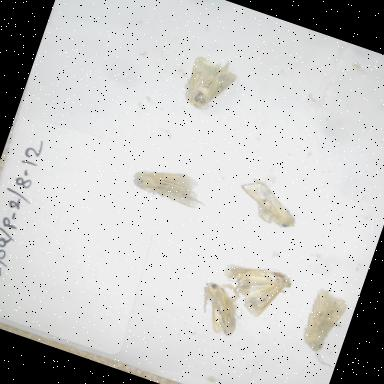abw: (208, 249, 300, 327), (286, 280, 360, 376), (118, 155, 212, 222), (168, 44, 248, 122), (226, 168, 312, 238), (184, 272, 257, 346)
